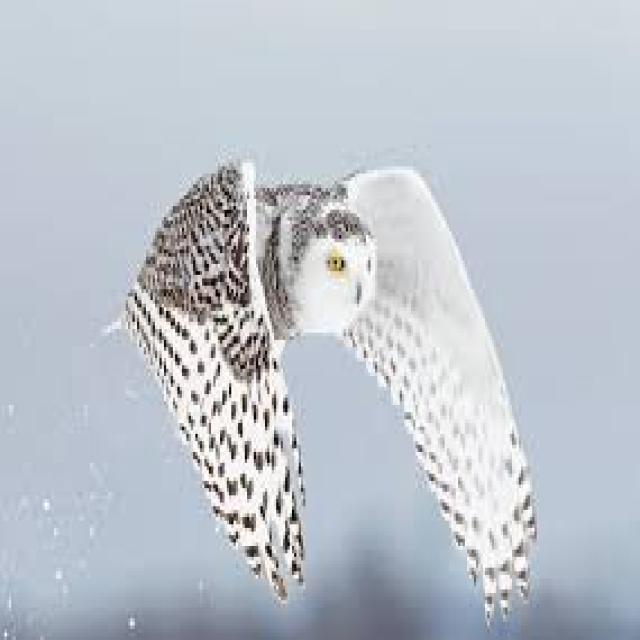snowy owl: (108, 160, 559, 618)
